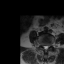CCS_normal: (45, 43, 46, 52)
LFS_normal: (48, 42, 51, 48)
LLS_normal: (46, 43, 48, 50)
RFS_stenosis: (41, 42, 43, 48)
RLS_normal: (43, 43, 45, 50)
